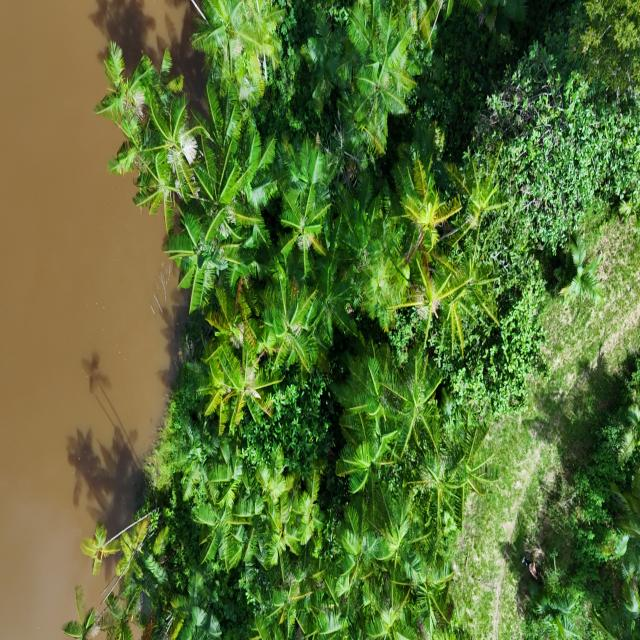vegetation: (63, 1, 637, 638)
